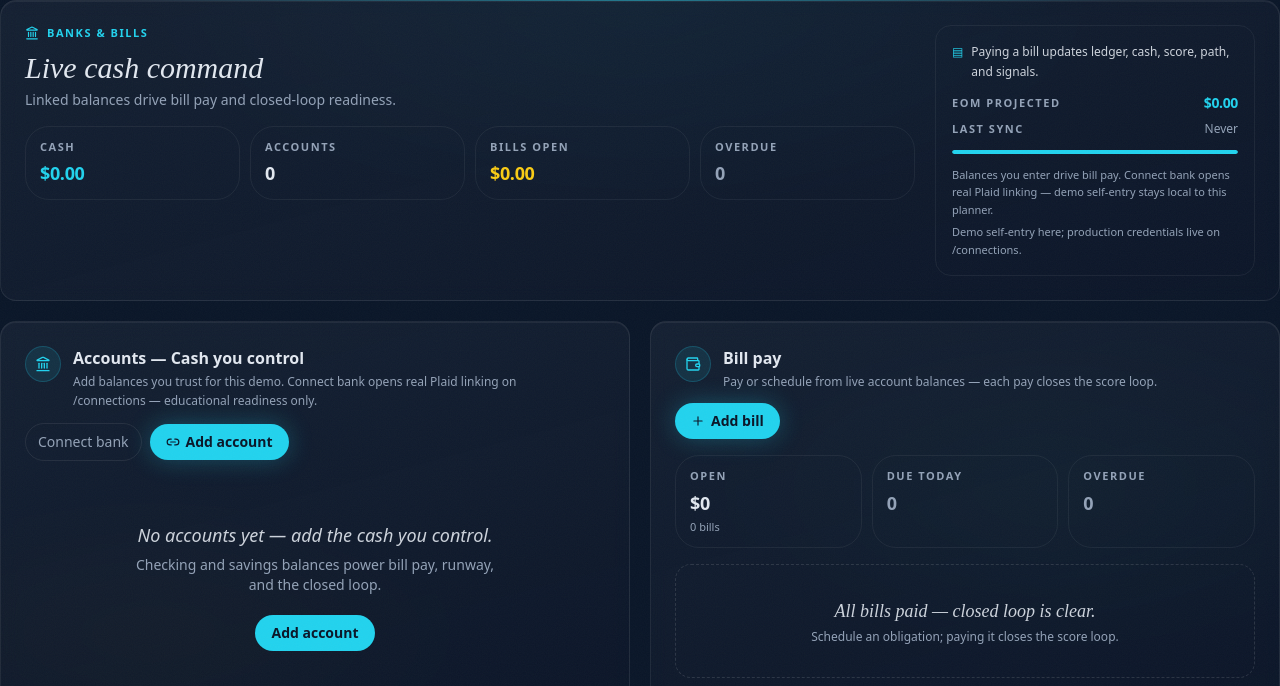
Test: BankingCommand Connect bank CTA › opens demo Add account with Institution and Account name
The width and height of the screenshot is (1280, 686).
Step 1. Click the button "Add account" below "Accounts — Cash you control" → (219, 442), box [150,424,288,460]
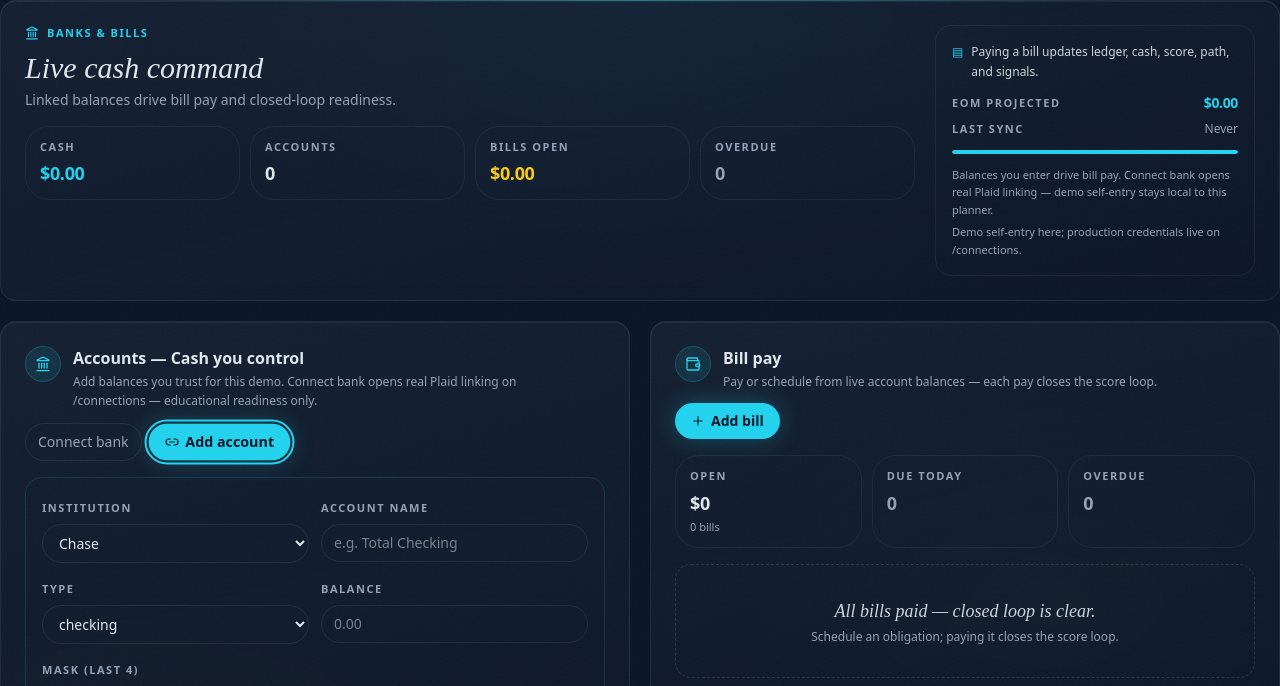
Now the dropdown labelled "Institution" is shown, box [42,524,309,563]
Now the field labelled "Account name" is shown, box [321,524,588,562]
